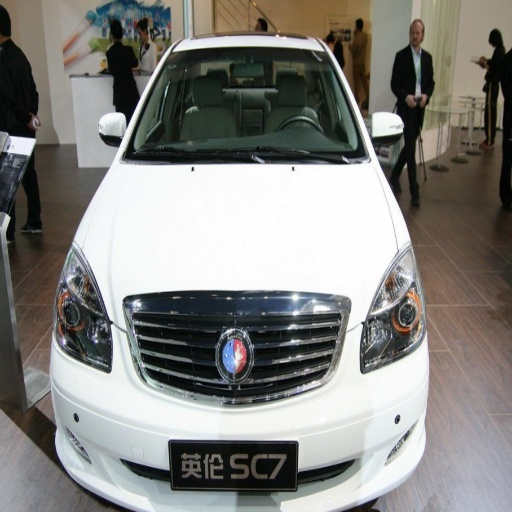front_bumper: (51, 296, 424, 511)
front_right_light: (55, 244, 111, 369)
hood: (85, 161, 399, 320)
left_mirror: (372, 112, 405, 157)
